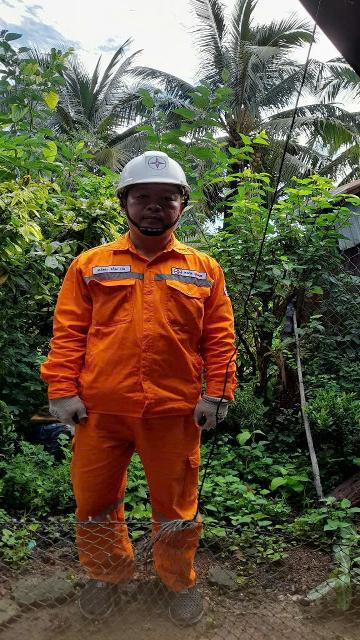gloves: (32, 376, 92, 442), (192, 388, 242, 441)
helmet: (88, 126, 207, 202)
shoes: (68, 557, 136, 622), (159, 564, 218, 632)
